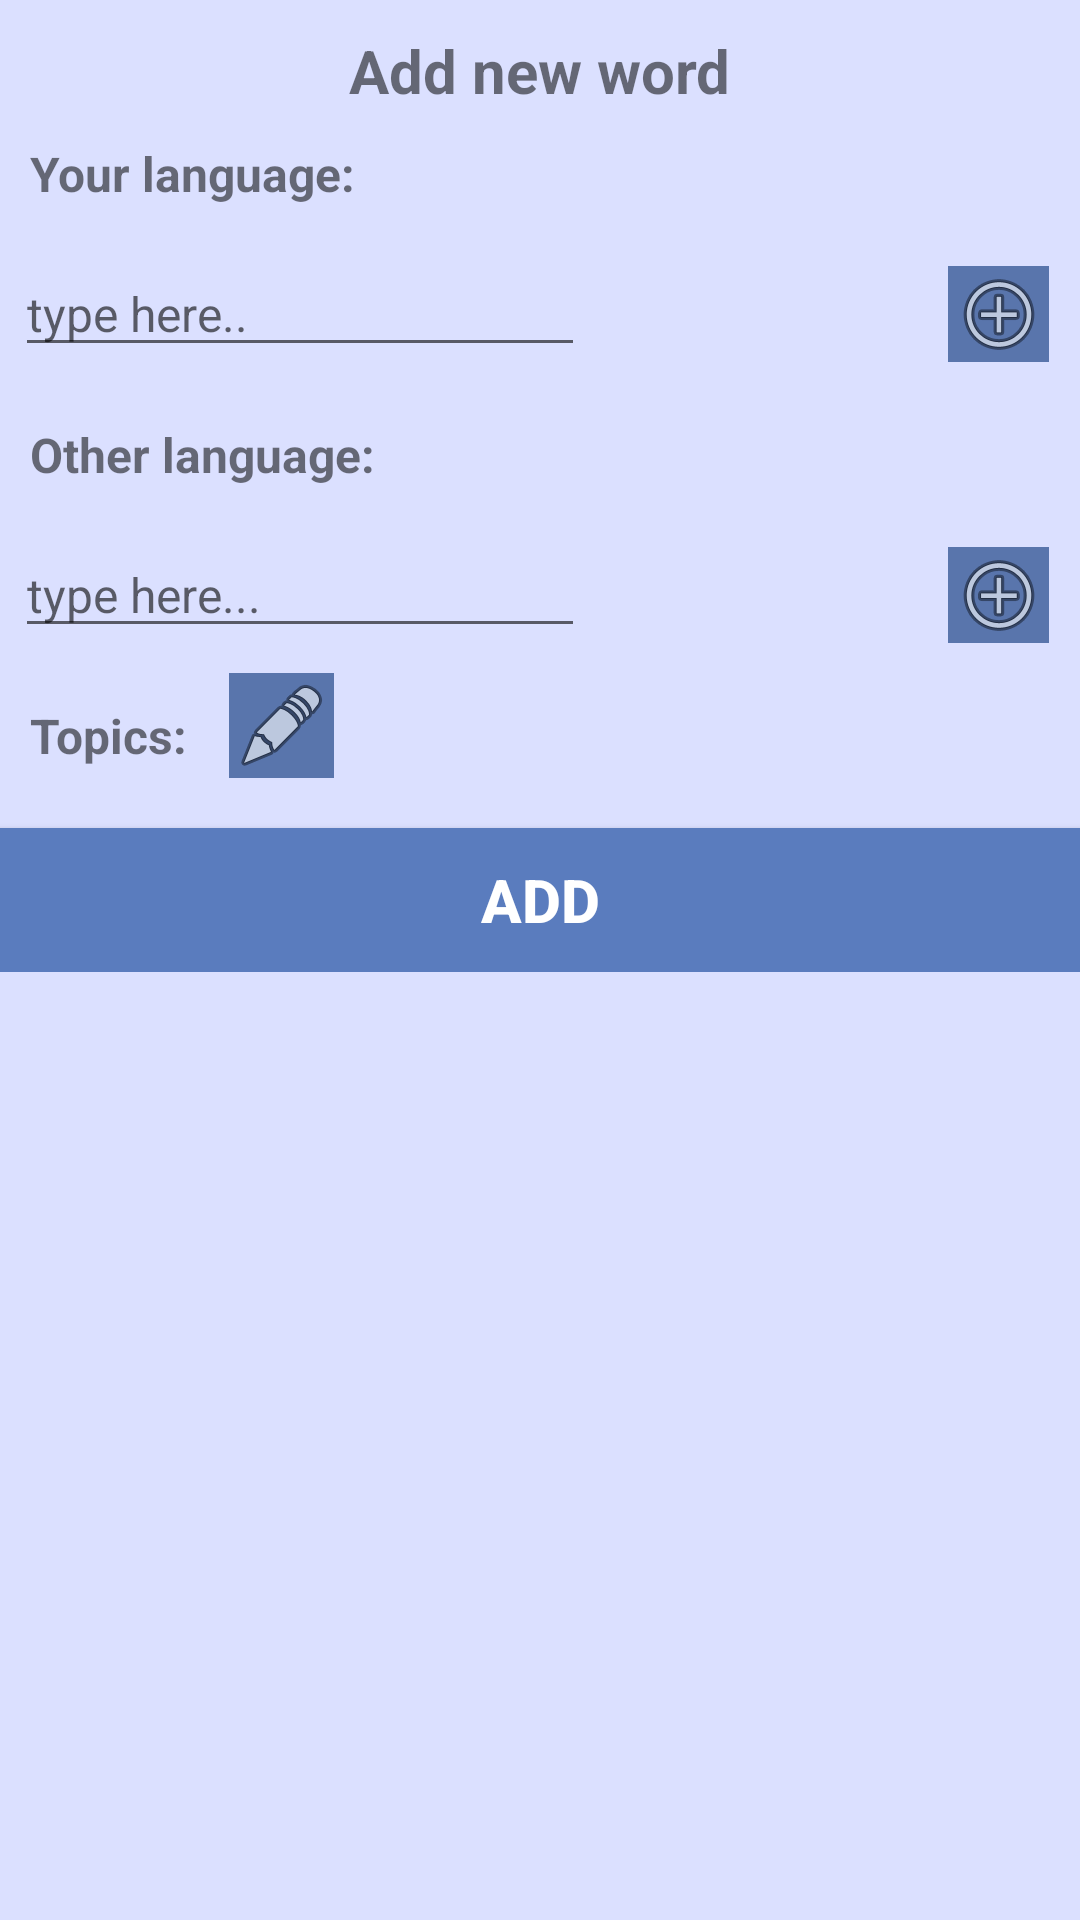

Screen size 1080×1920. Icon name, then its center in pixels as point (x, y):
add: point (998, 314), point (998, 595)
edit: point (281, 725)
